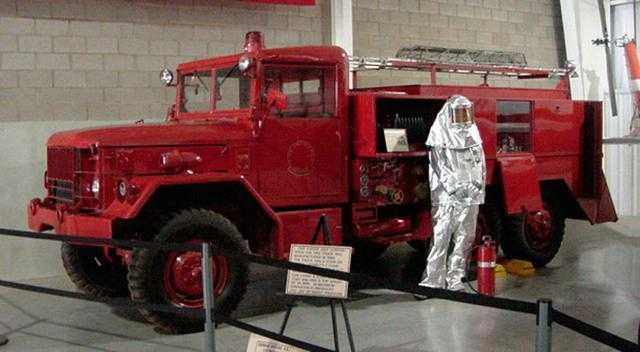Fire Truck: (34, 23, 617, 318)
